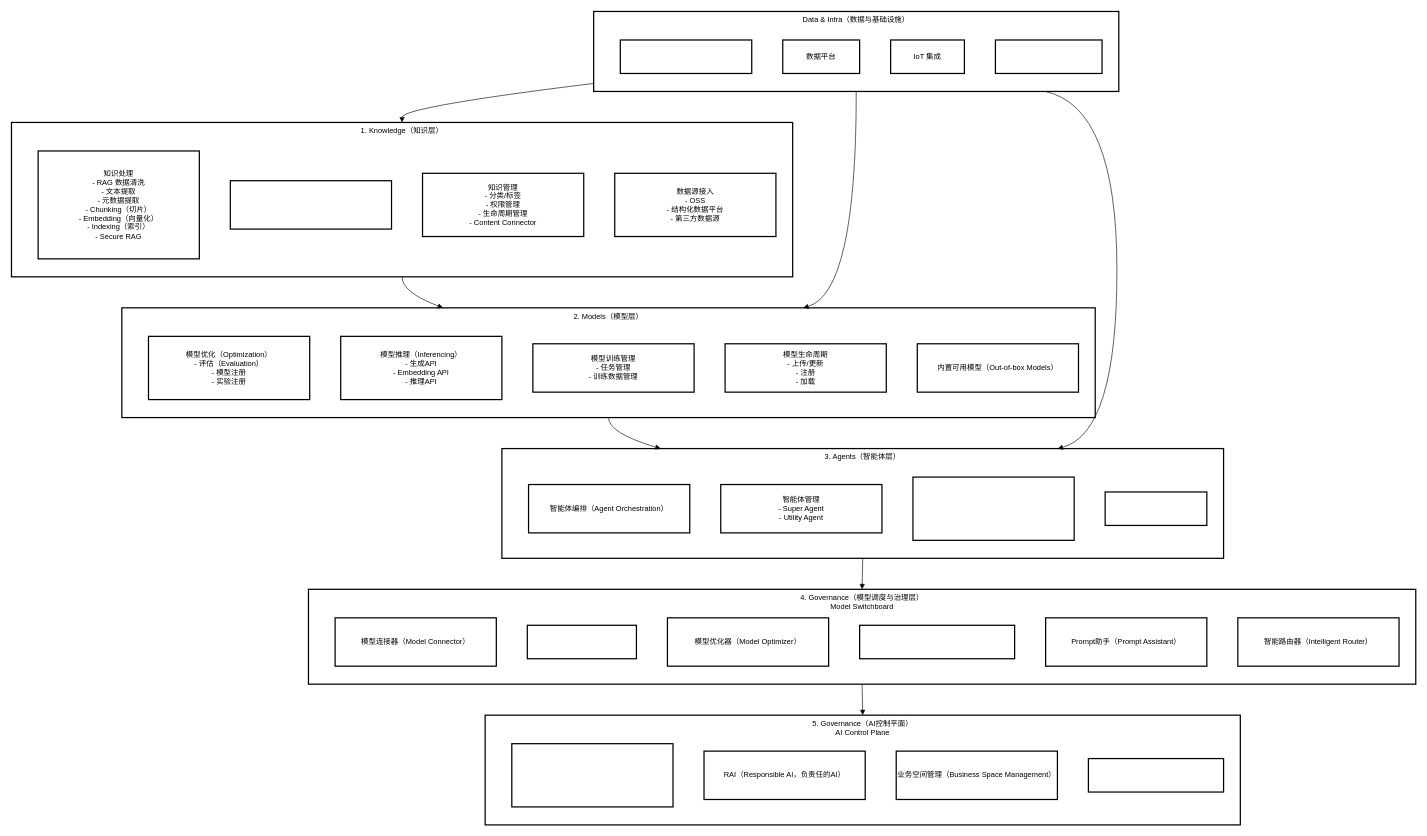
This 1427x836 diagram has some shape labels left out. The shapes that lost their labels are listed below. From the top down, each one's centre as x and y in pixels, then its label:
pixel 685 56: 模型文件/服务器存储
pixel 1048 56: 第三方系统集成
pixel 310 204: 知识搜索 - 安全RAG - 搜索引擎
pixel 993 508: Prompt与记忆管理 - Prompt Template - Memory and Reflection
pixel 1155 508: Agents Builder
pixel 581 641: 打分（Scoring）
pixel 937 641: 可观测性（Observability）
pixel 592 775: 企业级仪表盘 - 成本监控 - 异常预警 - 模型观测 - 应用观测
pixel 1155 775: AI运行监控与运维支持
